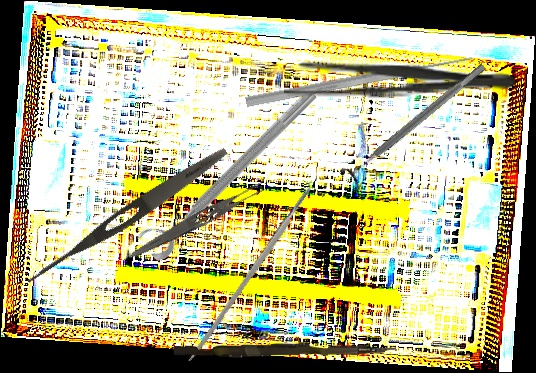Dressing Forceps: (22, 142, 232, 292), (128, 177, 269, 265), (284, 60, 515, 100)
Fixation Ring: (133, 75, 323, 265), (337, 55, 494, 193)
Pusher: (244, 51, 474, 110), (173, 338, 397, 361)
Scalpel Handle: (185, 184, 316, 365)
